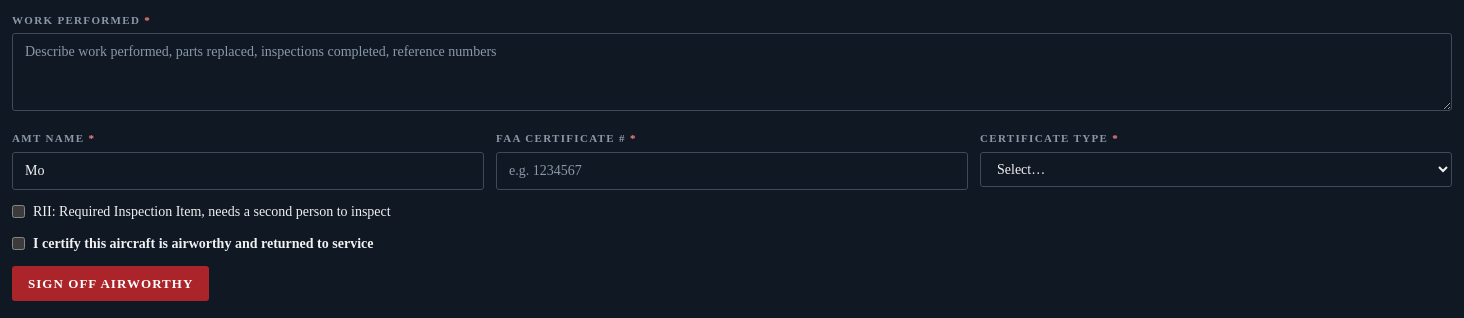
it: the AMT's sign-off (#172) › says what the server refused, and stays open
Type "Replaced the generator." into the text box labelled "Work Performed *" at (732, 72), box 12,33 -> 1452,111
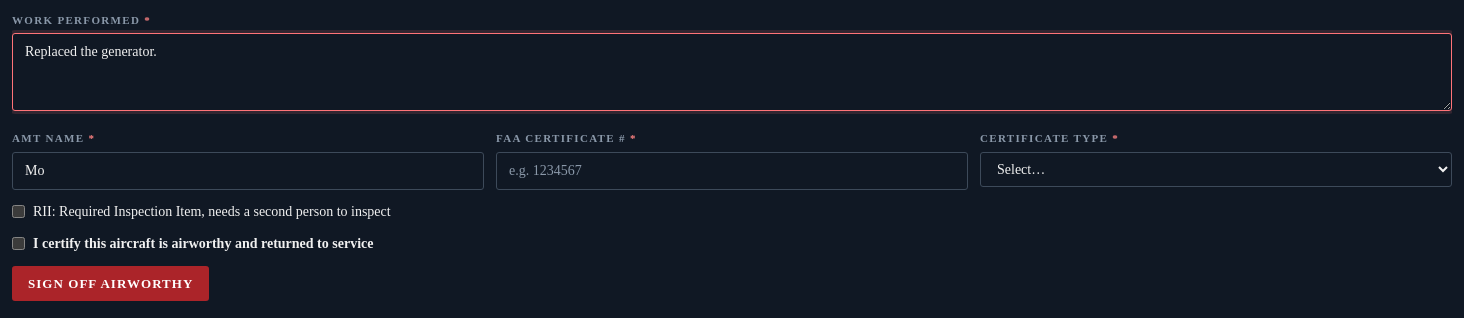
Type "1234567" into the field labelled "FAA Certificate # *" at (732, 171), box 496,152 -> 968,190
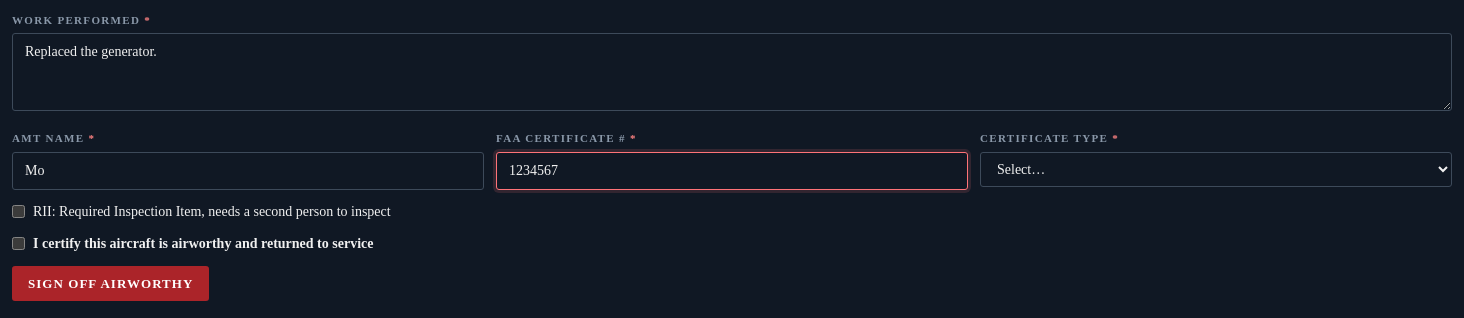
Select "A&P" in the dropdown labelled "Certificate Type *" at (1216, 169), box 980,152 -> 1452,187
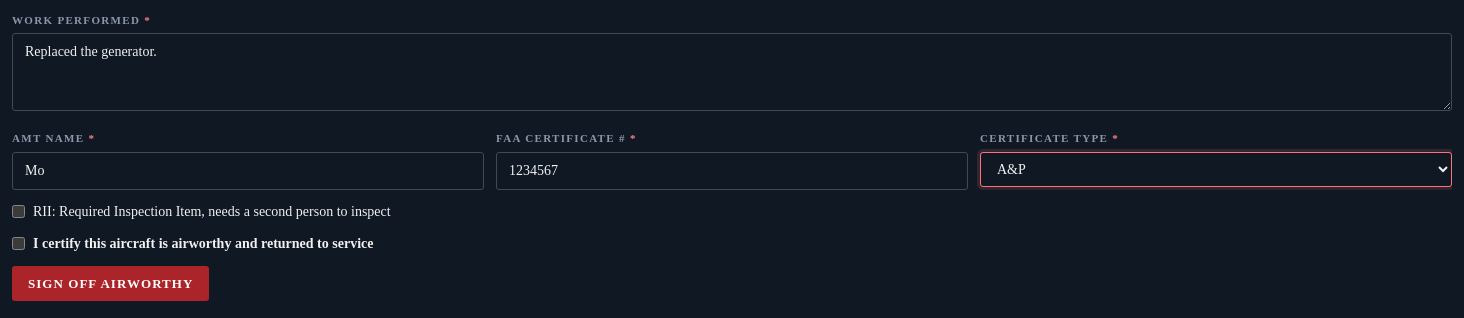
Click the checkbox labelled "I certify this aircraft is airworthy and returned to service" at (18, 244), box 12,237 -> 25,250
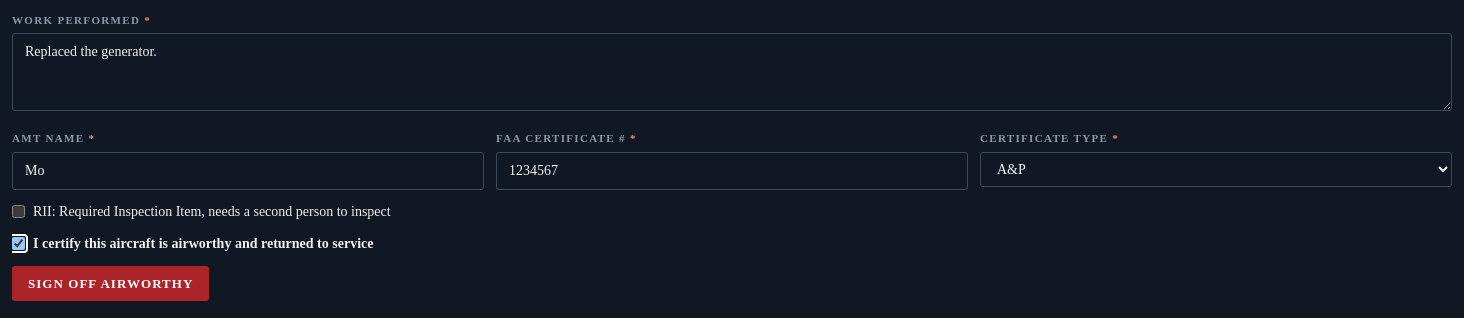
Click the button "Sign Off Airworthy" at (111, 283), box 12,266 -> 209,301
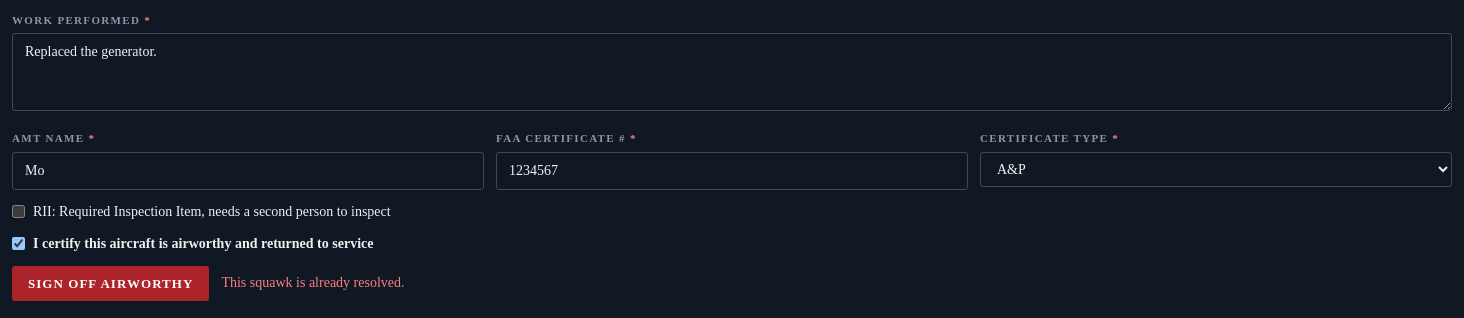
Now the message shows "already resolved", box 221,275 -> 404,290
